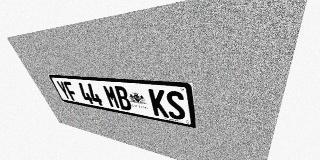4: (85, 83, 104, 106), (76, 82, 94, 104)
B: (113, 86, 133, 111)
F: (62, 81, 80, 102)
K: (148, 89, 169, 118)
M: (102, 85, 121, 109)
S: (165, 90, 186, 121)
Y: (55, 81, 72, 100)
